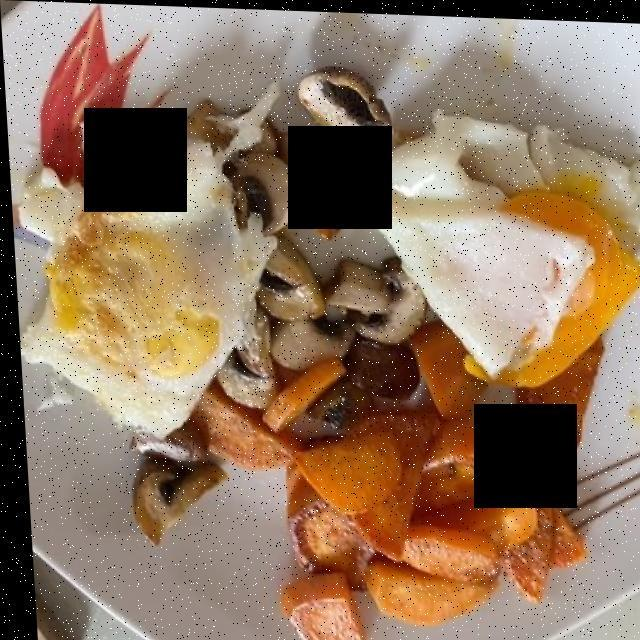egg: (16, 108, 640, 447)
mushroom: (130, 66, 430, 543)
sweet-potato: (198, 334, 594, 640)
